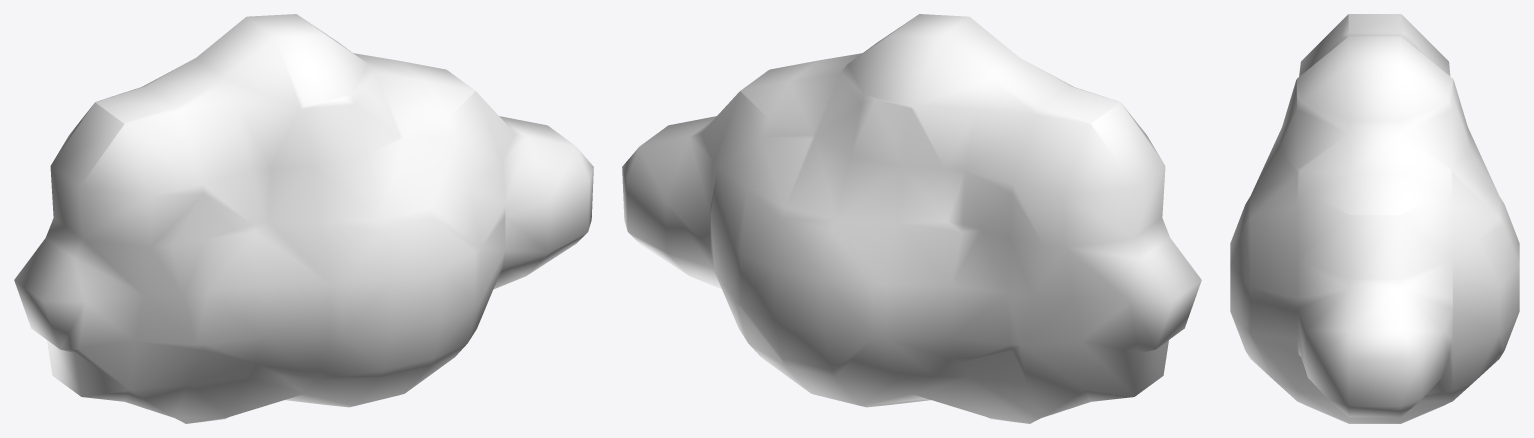
Rendered from cloud2.glb.
3 renders of one model, left to right at view 1: azimuth 30°, elevation 25°; view 2: azimuth 150°, elevation 25°; view 3: azimuth 270°, elevation 25°, orthographic. The views are drawn at different scales.
Parts seen in each view (by area): view 1: Mball.010; view 2: Mball.010; view 3: Mball.010.
Boxes of the visible parts, x1,y1,x2,y2 form: Mball.010: (14,14,593,423); Mball.010: (622,14,1201,423); Mball.010: (1230,14,1519,423).
Bounding box in the file's own units: 5.02 × 3.3 × 2.55.
1 material, 1 textured.
